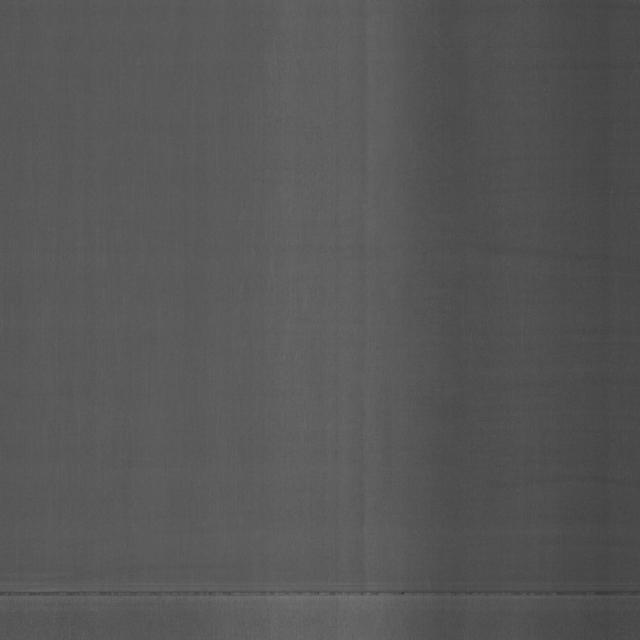crease: (3, 565, 640, 616)
